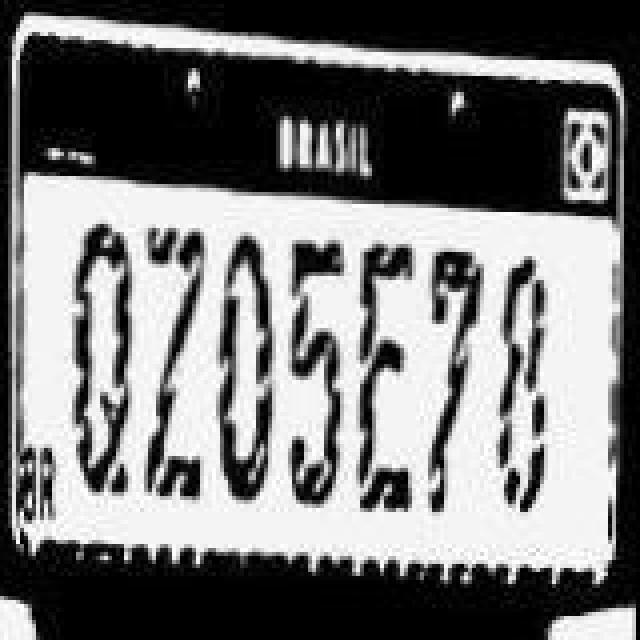5: (288, 232, 348, 508)
7: (428, 248, 480, 516)
8: (496, 252, 548, 524)
E: (354, 240, 418, 516)
O: (216, 230, 276, 502)
Q: (70, 222, 134, 498)
Z: (140, 224, 208, 500)
